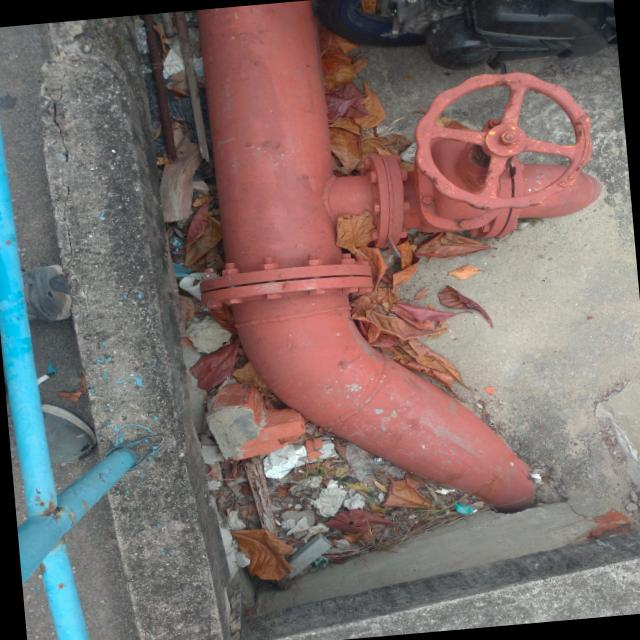gas: (211, 0, 517, 509)
